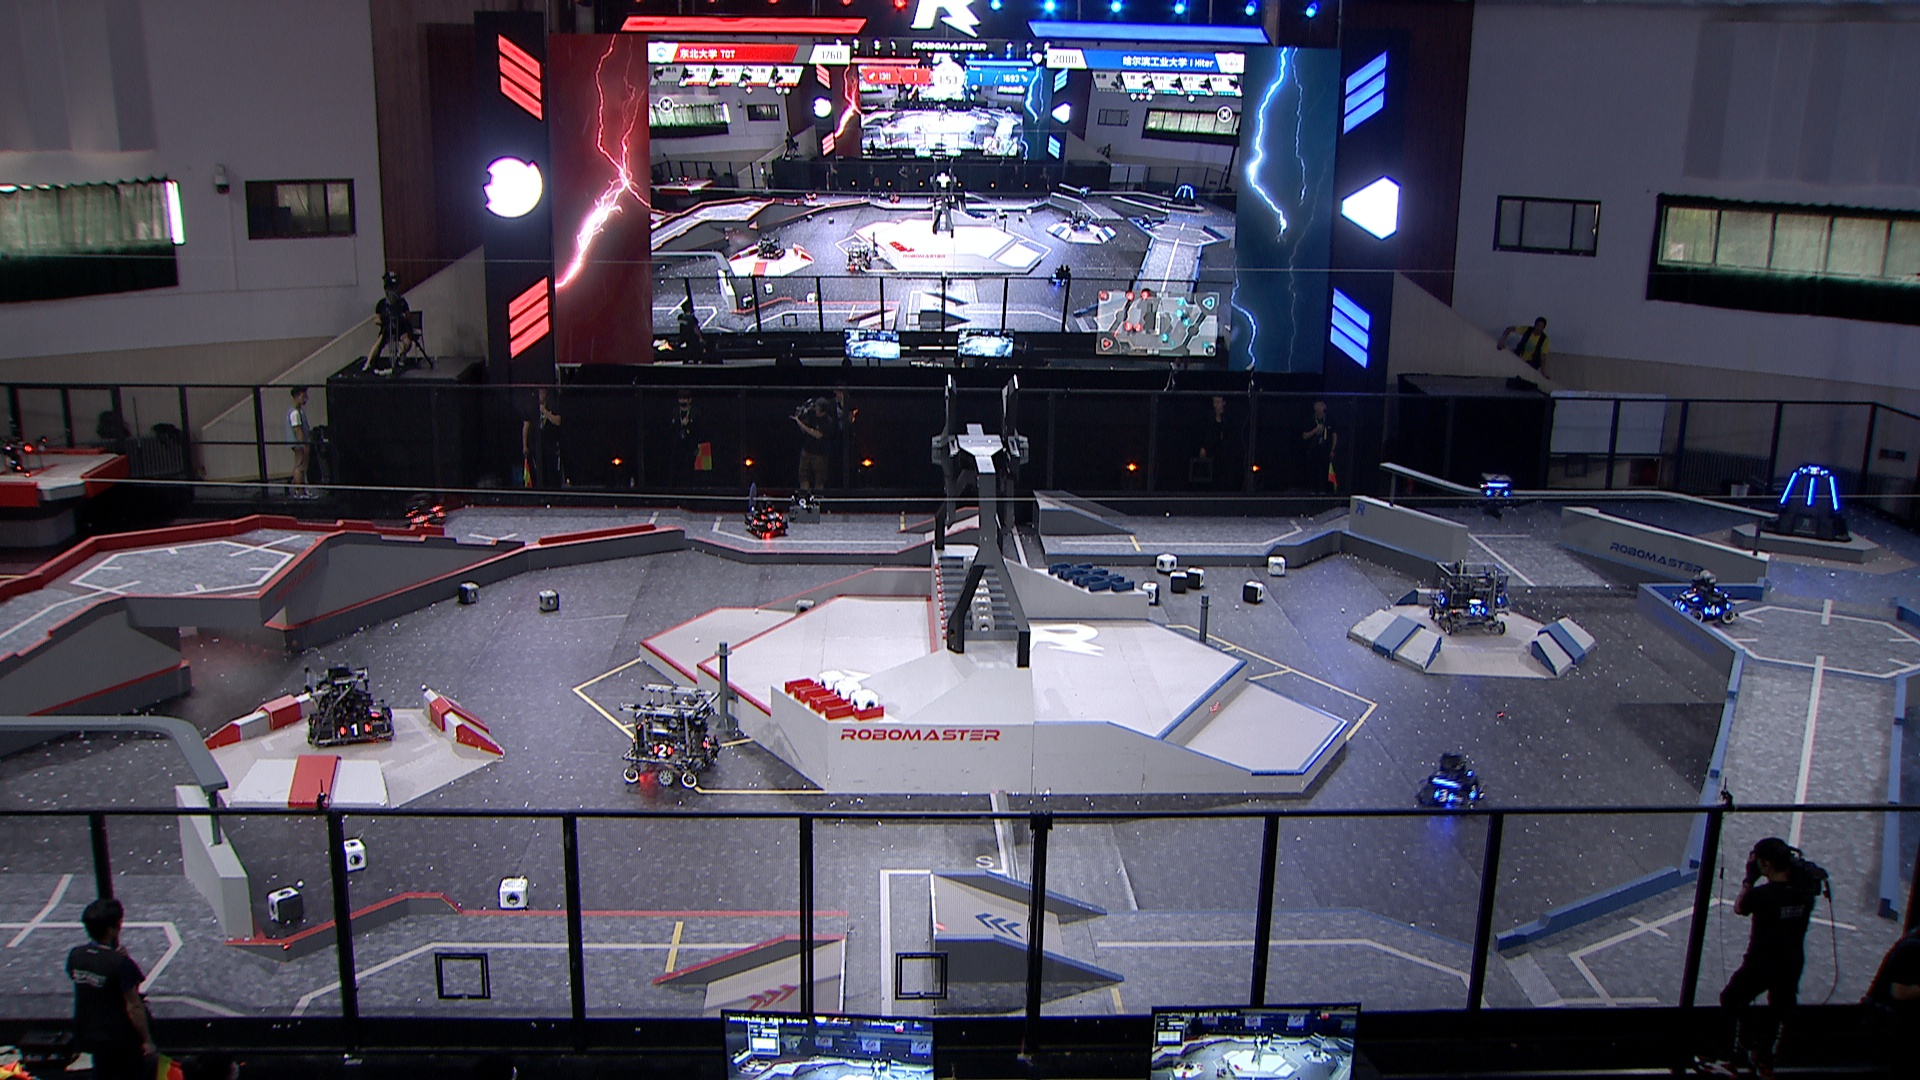armor: (1775, 469, 1799, 505), (1825, 473, 1840, 513), (1804, 473, 1818, 508), (338, 723, 372, 737), (647, 742, 676, 760), (367, 699, 385, 721), (407, 510, 429, 527), (1433, 787, 1455, 804), (698, 733, 717, 750), (1482, 487, 1510, 498), (1801, 465, 1828, 477), (757, 510, 782, 522), (1673, 597, 1691, 615), (1702, 603, 1722, 617), (1680, 589, 1698, 604), (1468, 604, 1485, 618), (1466, 781, 1480, 799), (765, 520, 782, 531), (1436, 591, 1447, 607)
base: (1754, 460, 1854, 545)
car: (621, 676, 724, 789), (302, 659, 400, 750), (1424, 556, 1513, 638), (1414, 749, 1487, 815), (1667, 566, 1741, 624), (396, 488, 448, 538), (742, 495, 794, 542)
ignore: (843, 243, 874, 273), (756, 233, 787, 261), (1046, 262, 1073, 290), (1172, 182, 1197, 208), (1069, 210, 1092, 229), (1138, 214, 1153, 232)
watcher: (1476, 469, 1515, 524)
